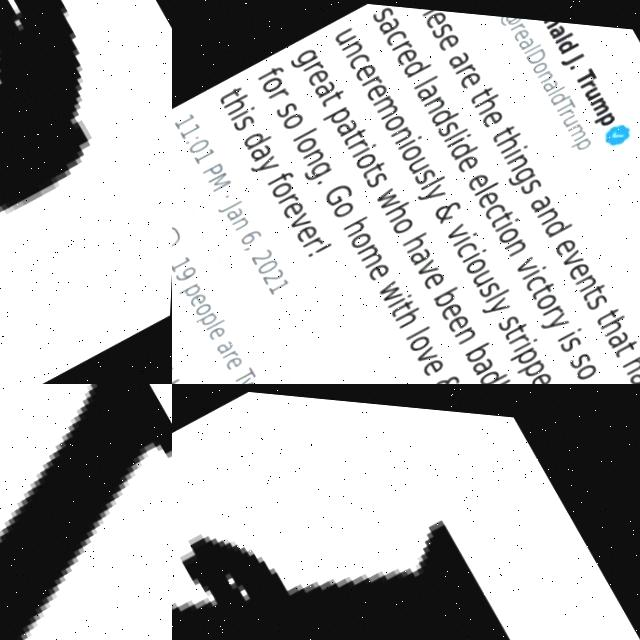0: (187, 132, 213, 154), (258, 251, 281, 273)
1: (179, 117, 204, 139), (269, 271, 294, 293), (174, 107, 198, 129), (172, 251, 194, 271), (194, 144, 217, 163)
2: (262, 261, 289, 284), (251, 241, 277, 264)
6: (241, 222, 265, 244)
9: (176, 261, 201, 282)
E: (172, 510, 518, 640)
Y: (0, 384, 172, 640)
